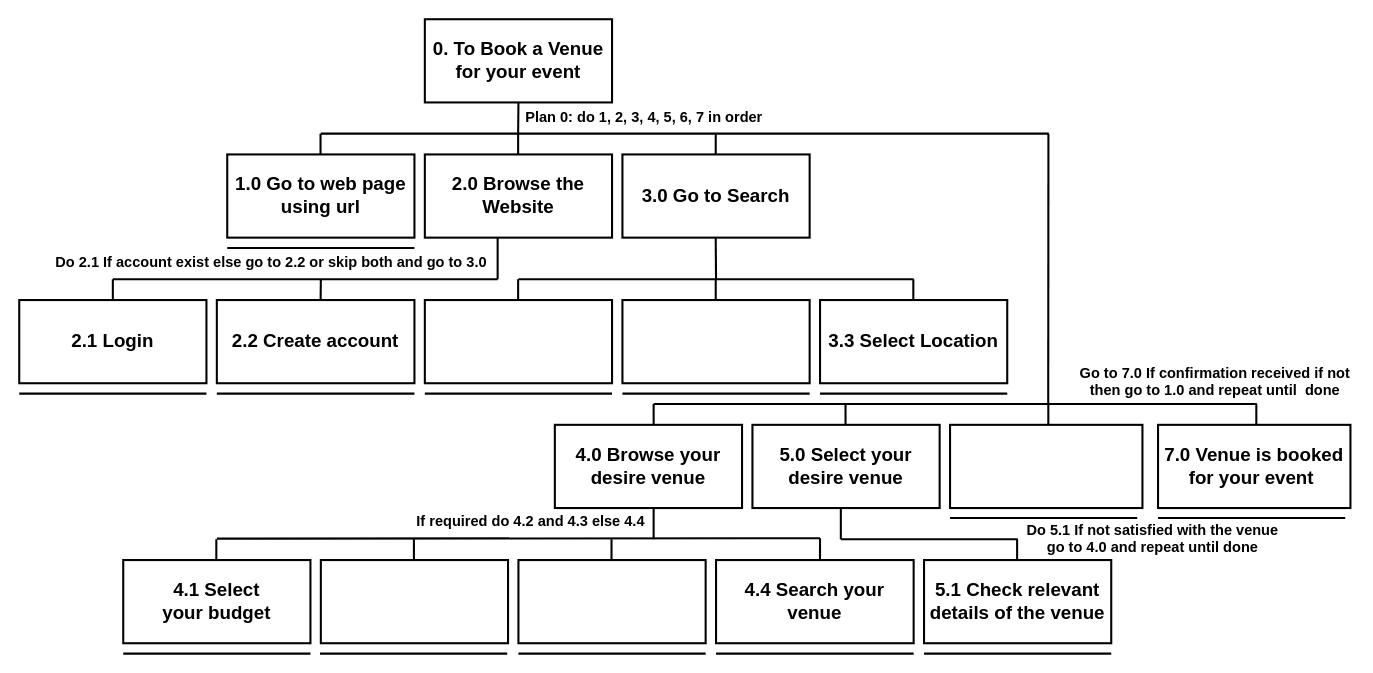
Image size: 1373x673. Some labels were removed from this diagram. The shapes that lost their labels are listed below. From the top down, each one's centre as x and y in pixels, then its label:
At pixel 518 341: "3.1 Select Occasion".
At pixel 715 341: "3.2 Select number of people".
At pixel 1045 466: "6.0 Finalize your event".
At pixel 414 601: "4.2 Select Parking".
At pixel 611 601: "4.3 Select Accomodation".
